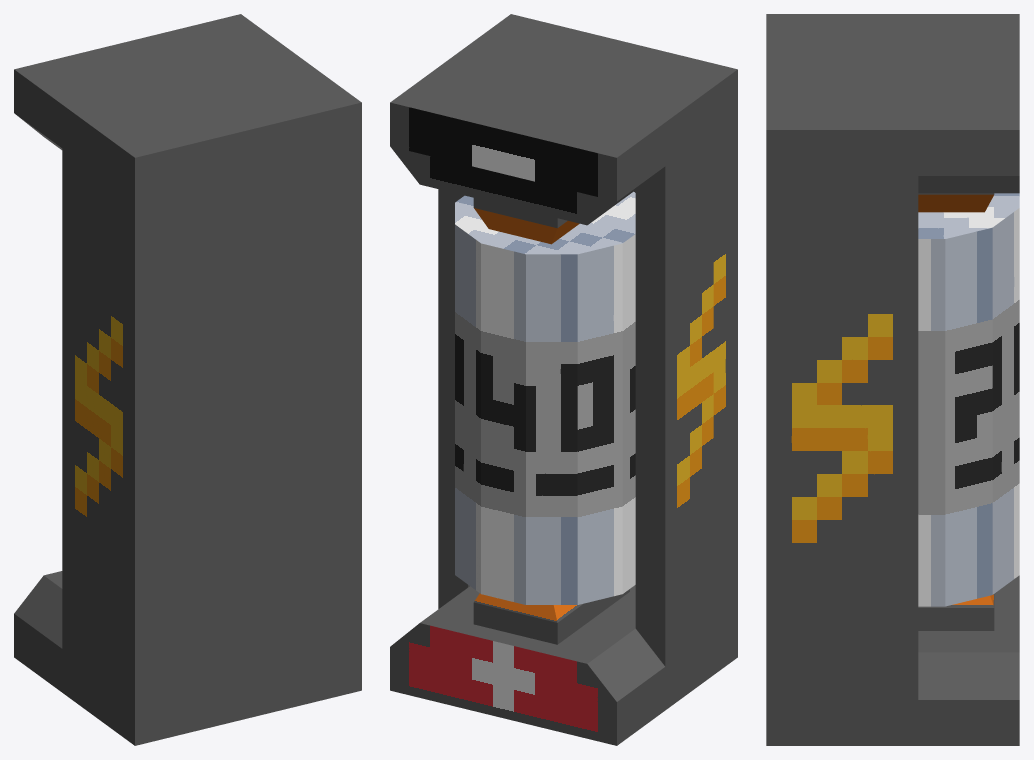
File: fuse.gltf
3 renders of one model, left to right at view 1: azimuth 30°, elevation 25°; view 2: azimuth 150°, elevation 25°; view 3: azimuth 270°, elevation 25°, orthographic. The views are drawn at different scales.
Visible parts, largest first — view 1: holder; view 2: holder, fuse; view 3: holder, fuse.
Boxes of the visible parts, bbox=[...] form: holder: bbox=[14, 14, 361, 745]; holder: bbox=[390, 14, 737, 745]; fuse: bbox=[455, 191, 635, 604]; holder: bbox=[766, 14, 1019, 745]; fuse: bbox=[918, 193, 1019, 606].
Size of the model in its own units: 0.3384 by 0.8384 by 0.3125.
Materials: 2 (2 with a texture image).
